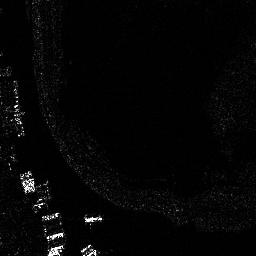ship: (82, 214, 104, 222)
